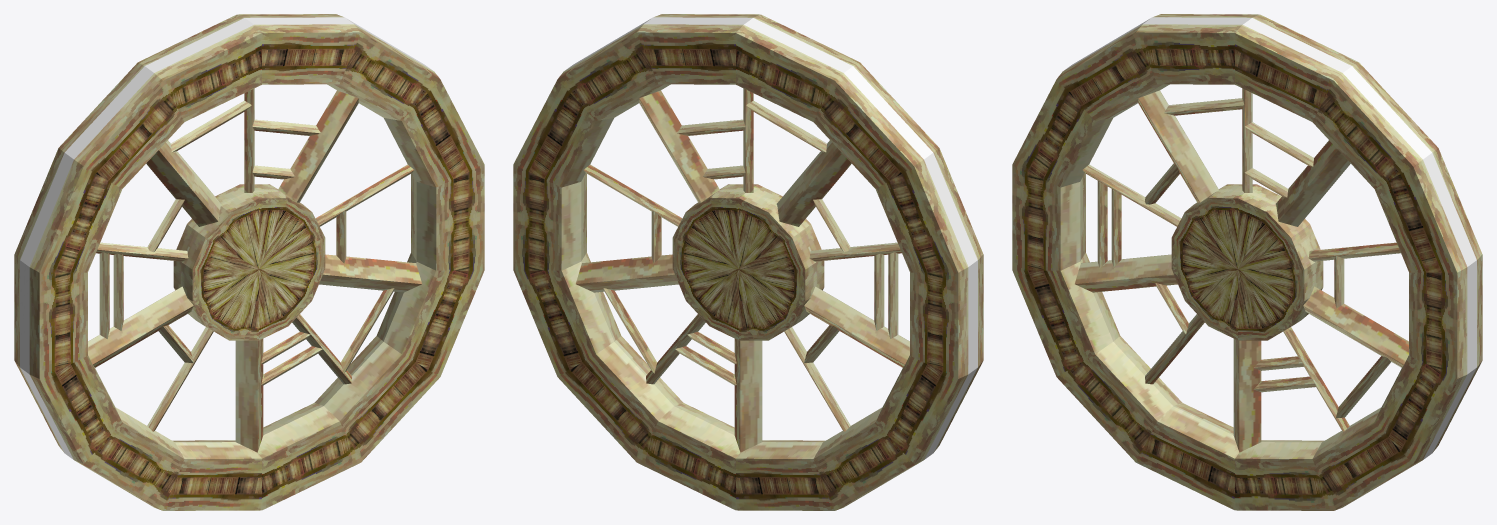
Rendered from cogwheel_wheel_bake.dae.
The picture shows the model from 3 angles, left to right: view 1: azimuth 30°, elevation 25°; view 2: azimuth 150°, elevation 25°; view 3: azimuth 330°, elevation 25°; orthographic projection.
Visible parts, largest first — view 1: m0, m1; view 2: m0, m1; view 3: m0, m1.
Boxes of the visible parts, <box> form: m0: <box>14,14,484,510</box>; m1: <box>20,17,432,459</box>; m0: <box>513,14,983,510</box>; m1: <box>565,17,977,459</box>; m0: <box>1012,14,1482,510</box>; m1: <box>1064,17,1476,459</box>.
Size of the model in its own units: 1646 by 1689 by 160.
3 materials, 2 textured.
